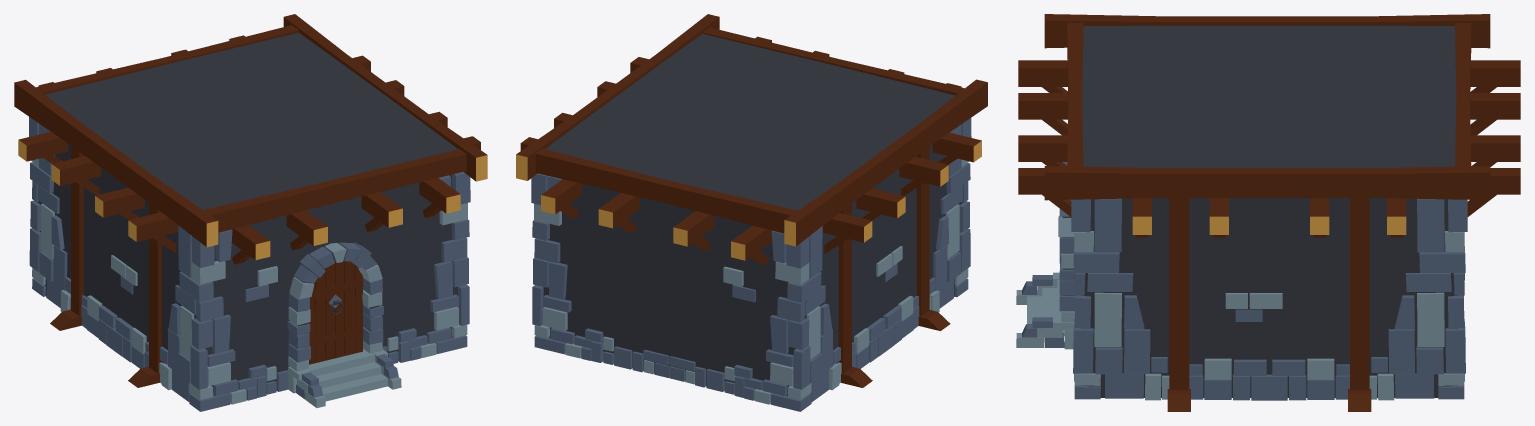
File: Village_House_4.glb
3 views of the same model, side by side, from view 1: azimuth 30°, elevation 25°; view 2: azimuth 150°, elevation 25°; view 3: azimuth 270°, elevation 25° (orthographic). The views are drawn at different scales.
Parts seen in each view (by area): view 1: House_4; view 2: House_4; view 3: House_4.
Part boxes in pixels (bbox=[...]): House_4: bbox=[14, 14, 487, 411]; House_4: bbox=[516, 14, 987, 411]; House_4: bbox=[1016, 14, 1520, 411].
Bounding box in the file's own units: 194 × 107 × 212.
